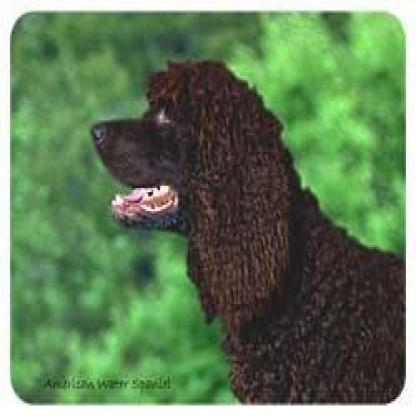Irish_water_spaniel: (87, 57, 406, 405)
